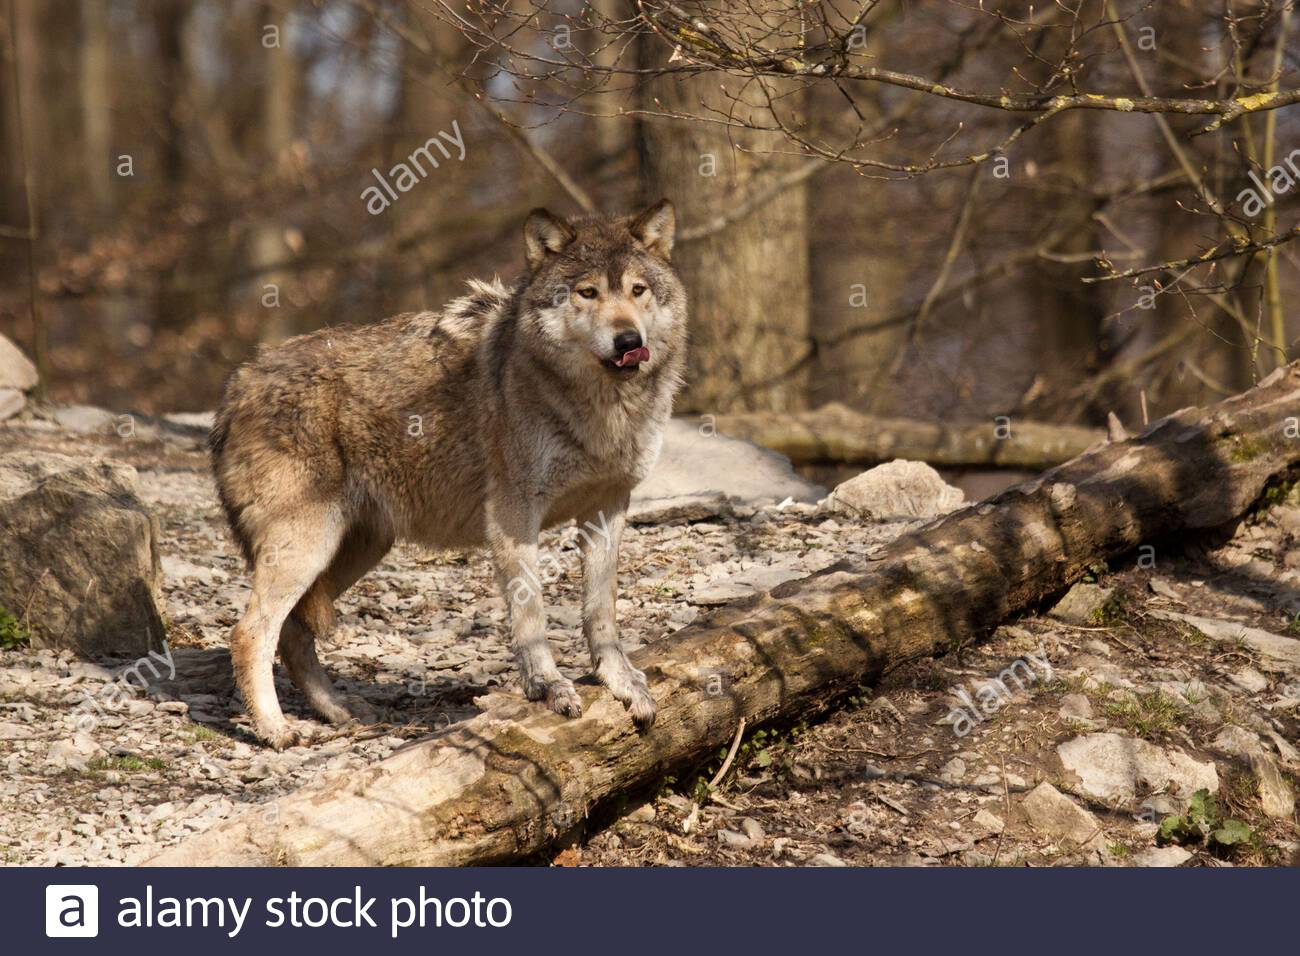Lobo: (172, 210, 729, 744)
